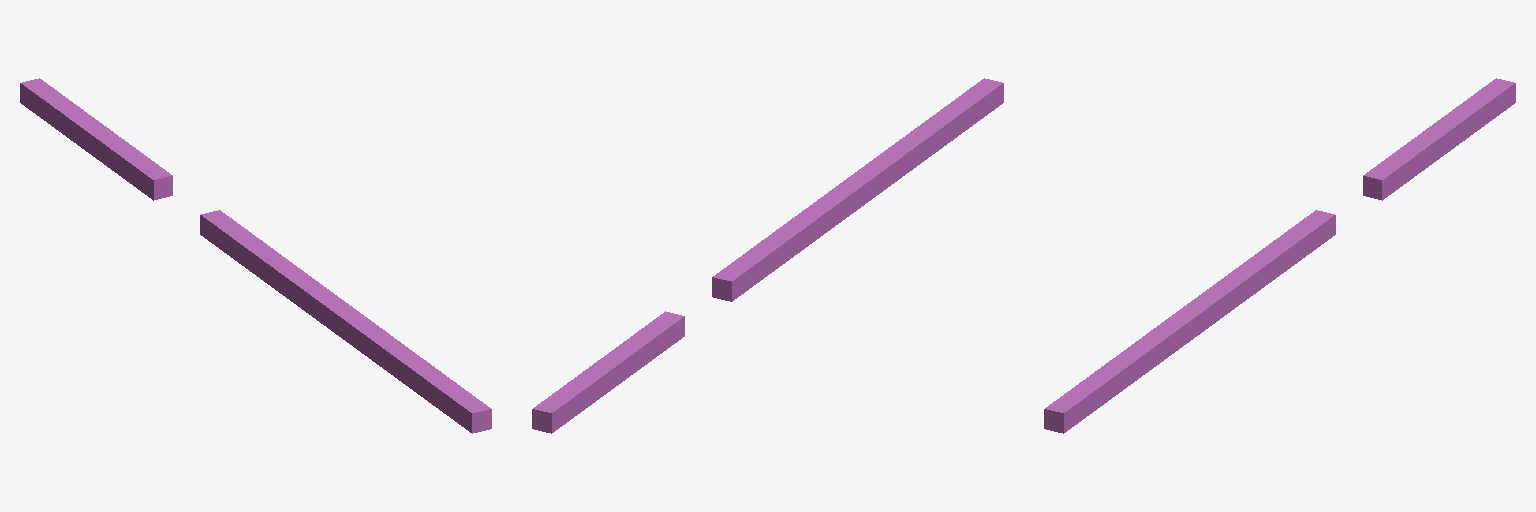
URDF robot description (robot):
<?xml version="1.0" ?>
<robot name="robot">
    <link name="box_link1">
        <inertial>
            <origin rpy="0 0 0" xyz="0 0 0" />
            <mass value="0" />
            <inertia ixx="0" ixy="0" ixz="0" iyy="0" iyz="0" izz="0" />
        </inertial>
        <visual>
            <origin rpy="0 0 0" xyz="0 -0.4 0.139" />
            <geometry>
                <box size="0.05 1.215 0.05"/>
            </geometry>
            <material name="a">
                <color rgba="0.8 0.5 0.8 1" />
            </material>
        </visual>
        <collision>
            <origin rpy="0 0 0" xyz="0 -0.4 0.139" />
            <geometry>
                <box size="0.05 1.215 0.05"/>
            </geometry>
        </collision>
    </link>
    <joint name="asd" type="fixed">
        <parent link="box_link1"/>
        <child link="box_link2"/>
    </joint>
    <link name="box_link2">
        <inertial>
            <origin rpy="0 0 0" xyz="0 0 0" />
            <mass value="0" />
            <inertia ixx="0" ixy="0" ixz="0" iyy="0" iyz="0" izz="0" />
        </inertial>
        <visual>
            <origin rpy="0 0 0" xyz="0 0.715 0.139" />
            <geometry>
                <box size="0.05 0.595 0.05"/>
            </geometry>
            <material name="a">
                <color rgba="0.8 0.5 0.8 1" />
            </material>
        </visual>
        <collision>
            <origin rpy="0 0 0" xyz="0 0.715 0.139" />
            <geometry>
                <box size="0.05 0.595 0.05"/>
            </geometry>
        </collision>
    </link>
</robot>

--- Render facts (derived) ---
3 views of the same robot in one strip: view 1: azimuth 30°, elevation 25°; view 2: azimuth 150°, elevation 25°; view 3: azimuth 330°, elevation 25° (orthographic).
Model robot with 2 links and 1 joints (1 fixed), rooted at box_link1, posed all joints at 0.
Links seen in each view (by area): view 1: box_link1, box_link2; view 2: box_link1, box_link2; view 3: box_link1, box_link2.
Link boxes in pixels (x1=…): box_link1: x1=200, y1=210, x2=491, y2=433; box_link2: x1=20, y1=78, x2=172, y2=200; box_link1: x1=712, y1=78, x2=1003, y2=301; box_link2: x1=532, y1=311, x2=684, y2=433; box_link1: x1=1044, y1=210, x2=1335, y2=433; box_link2: x1=1363, y1=78, x2=1515, y2=200.
Bounding box of the posed robot: 0.05 × 2.02 × 0.05 m (x, y, z).
Geometry: primitives only (box / cylinder / sphere), no mesh files.